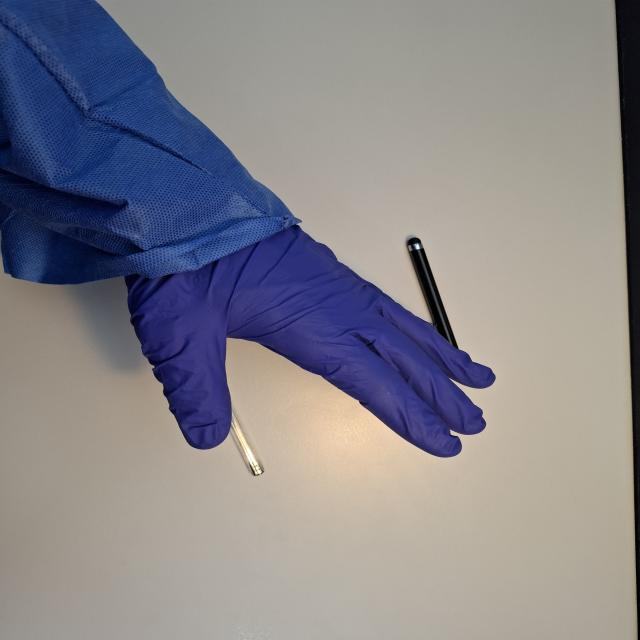glove_on: (119, 216, 502, 459)
